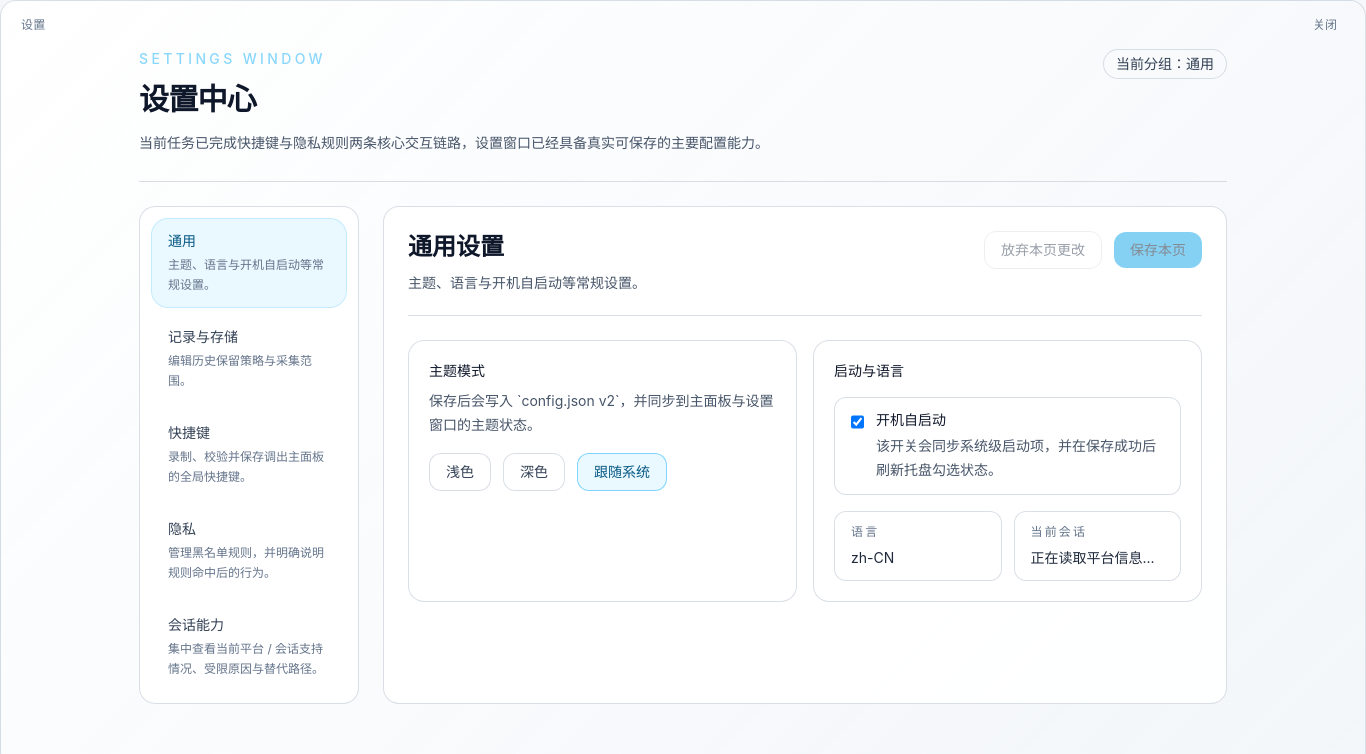
Scenario: components/SettingsWindowPlaceholder › 隐私页支持停用并删除黑名单规则
Check: the heading "设置中心" is shown, box x1=139 y1=81 x2=256 y2=117
Click the tab "隐私 管理黑名单规则，并明确说明规则命中后的行为。": x=249, y=551 x1=152 y1=507 x2=346 y2=595
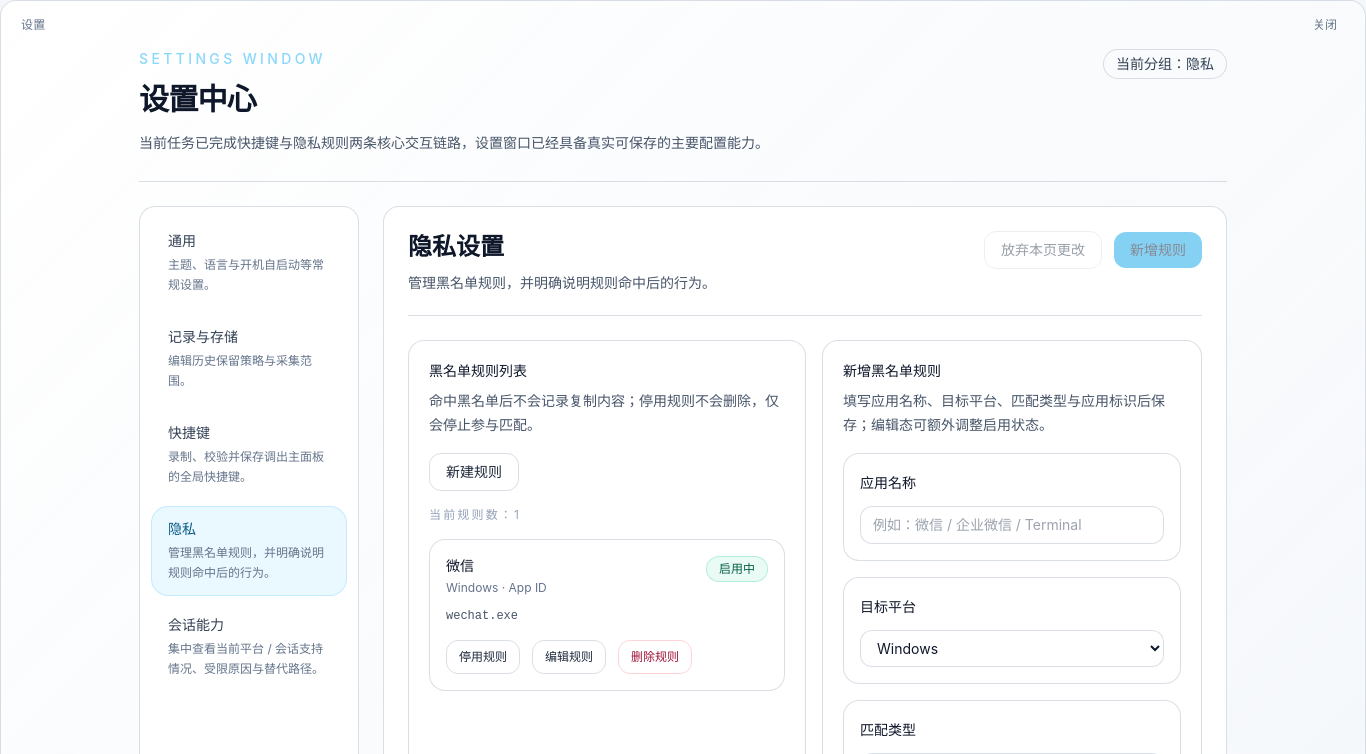
Check: the heading "隐私设置" is shown, box x1=408 y1=232 x2=504 y2=261
Click the button "停用规则": x=483, y=657 x1=446 y1=640 x2=520 y2=674
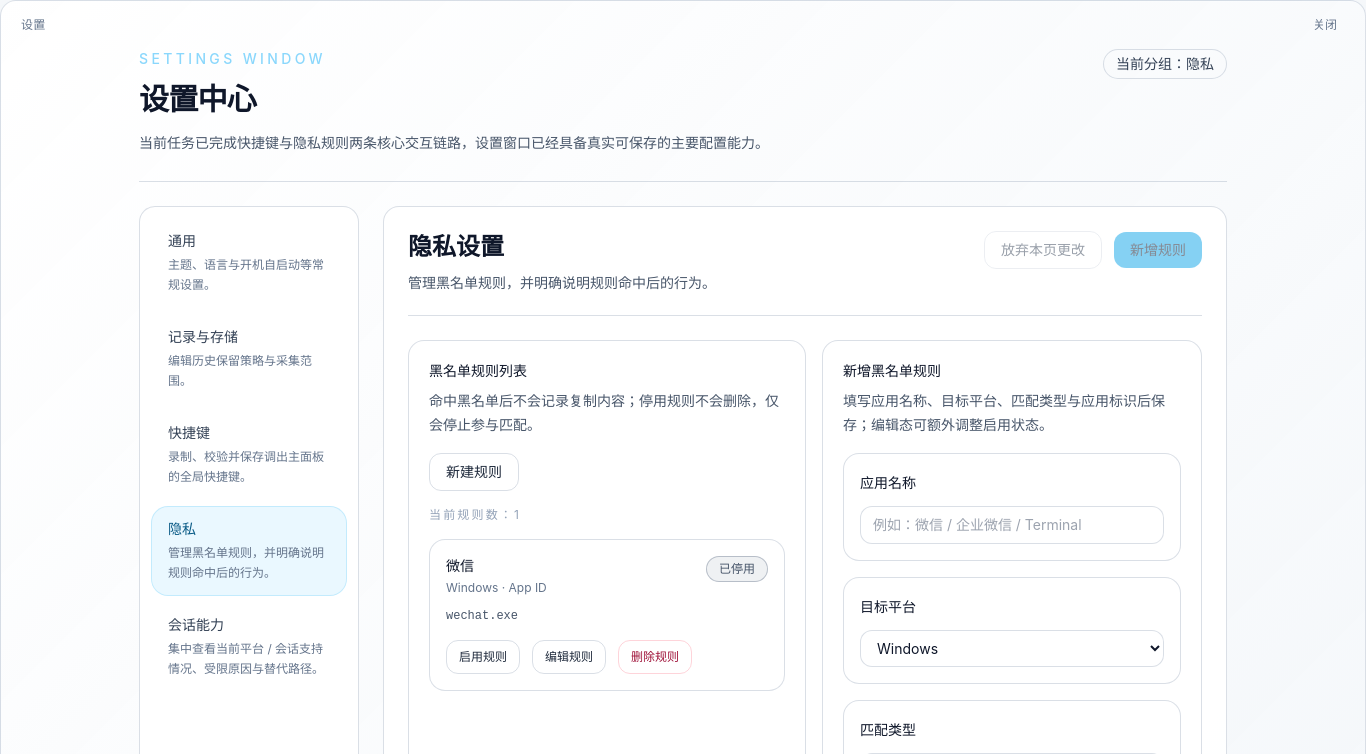
Click the button "删除规则": x=655, y=657 x1=618 y1=640 x2=692 y2=674
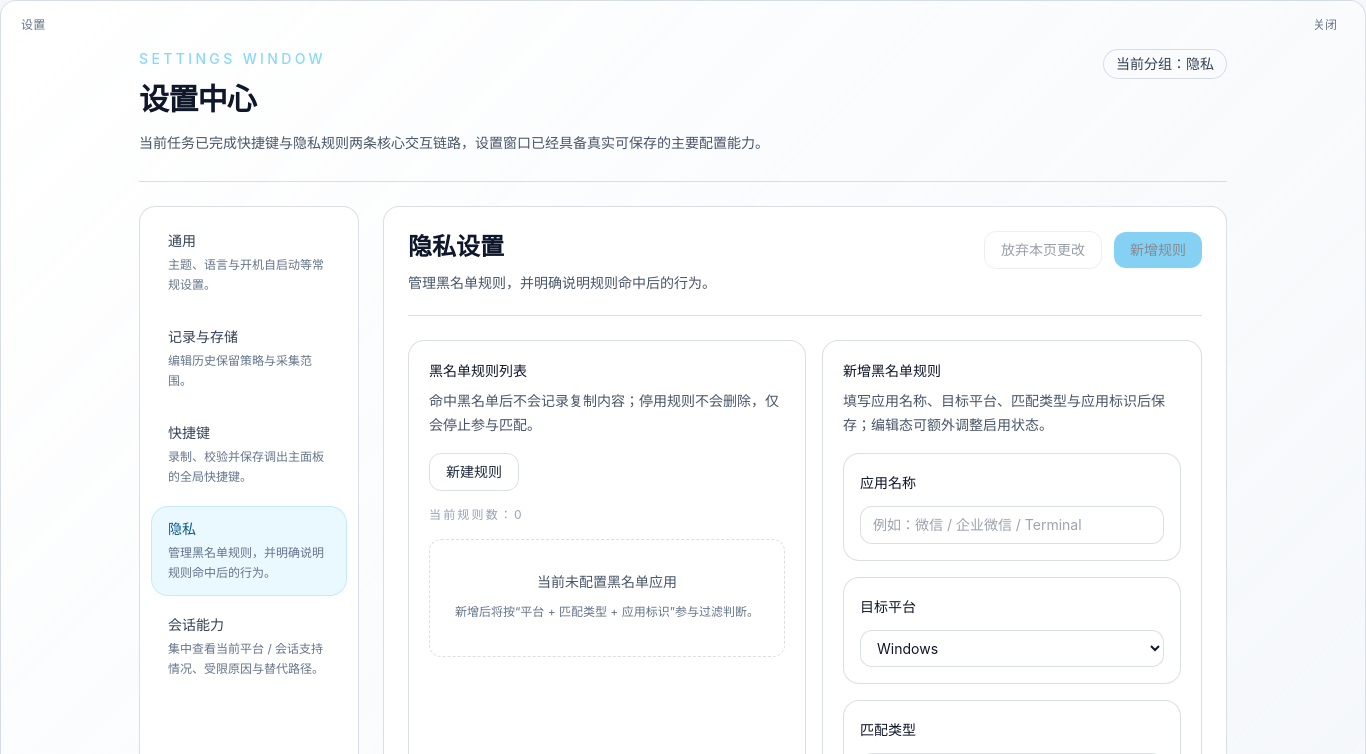
Check: the text "当前未配置黑名单应用" is shown, box x1=537 y1=573 x2=677 y2=590
